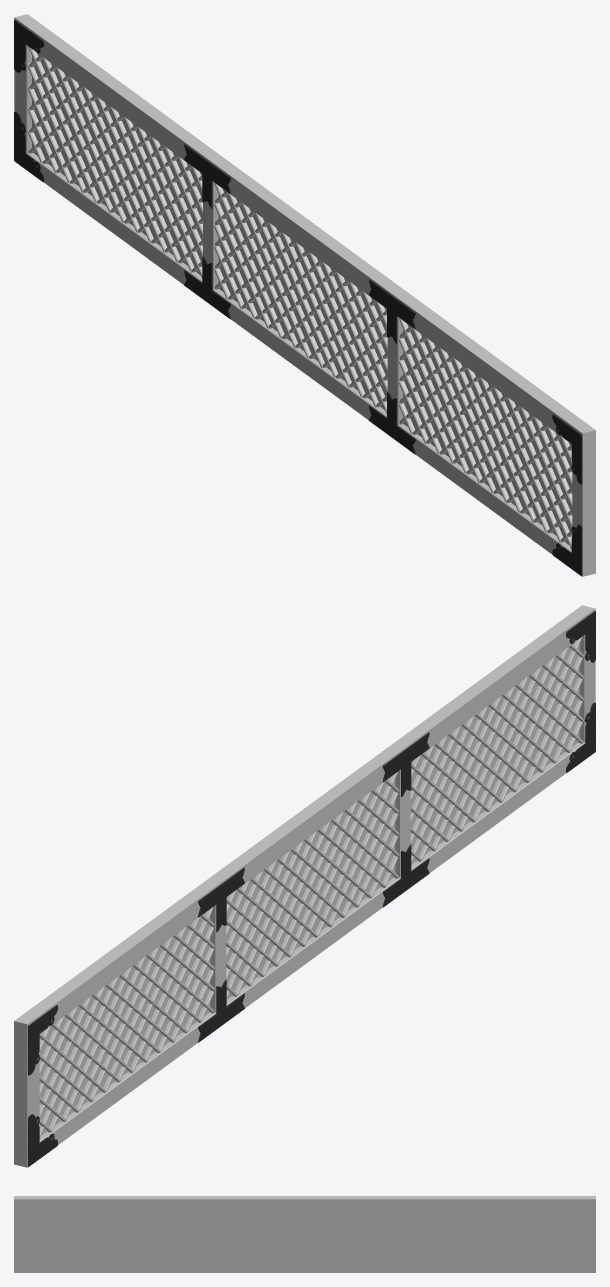
The model's file is SM_GJJ_1F_Window01C.fbx.
The picture shows the model from 3 angles, top to bottom: view 1: azimuth 30°, elevation 25°; view 2: azimuth 150°, elevation 25°; view 3: azimuth 270°, elevation 25°; orthographic projection. The views are drawn at different scales.
Visible parts, largest first — view 1: SM_GJJ_1F_Window01C; view 2: SM_GJJ_1F_Window01C; view 3: SM_GJJ_1F_Window01C.
Boxes of the visible parts, left/top/right/bottom form: SM_GJJ_1F_Window01C: left=14, top=14, right=595, bottom=576; SM_GJJ_1F_Window01C: left=14, top=605, right=595, bottom=1167; SM_GJJ_1F_Window01C: left=14, top=1196, right=595, bottom=1272.
Size of the model in its own units: 6.48 by 440 by 61.25.
